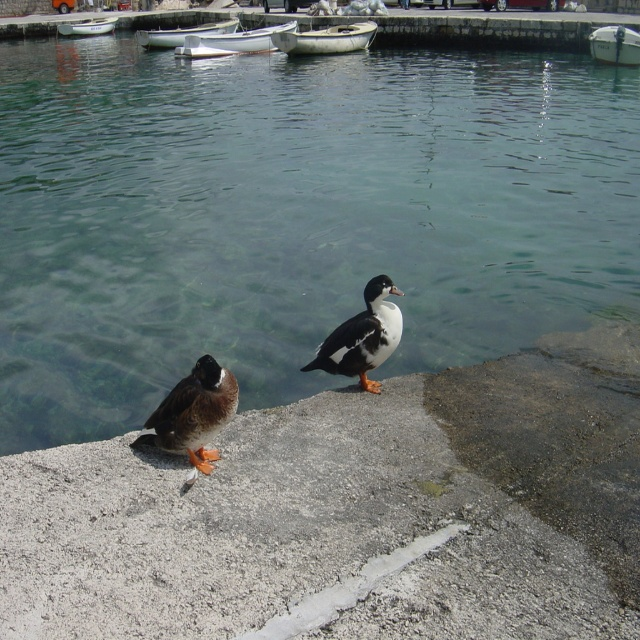Duck: (295, 262, 410, 401), (139, 350, 241, 478)
